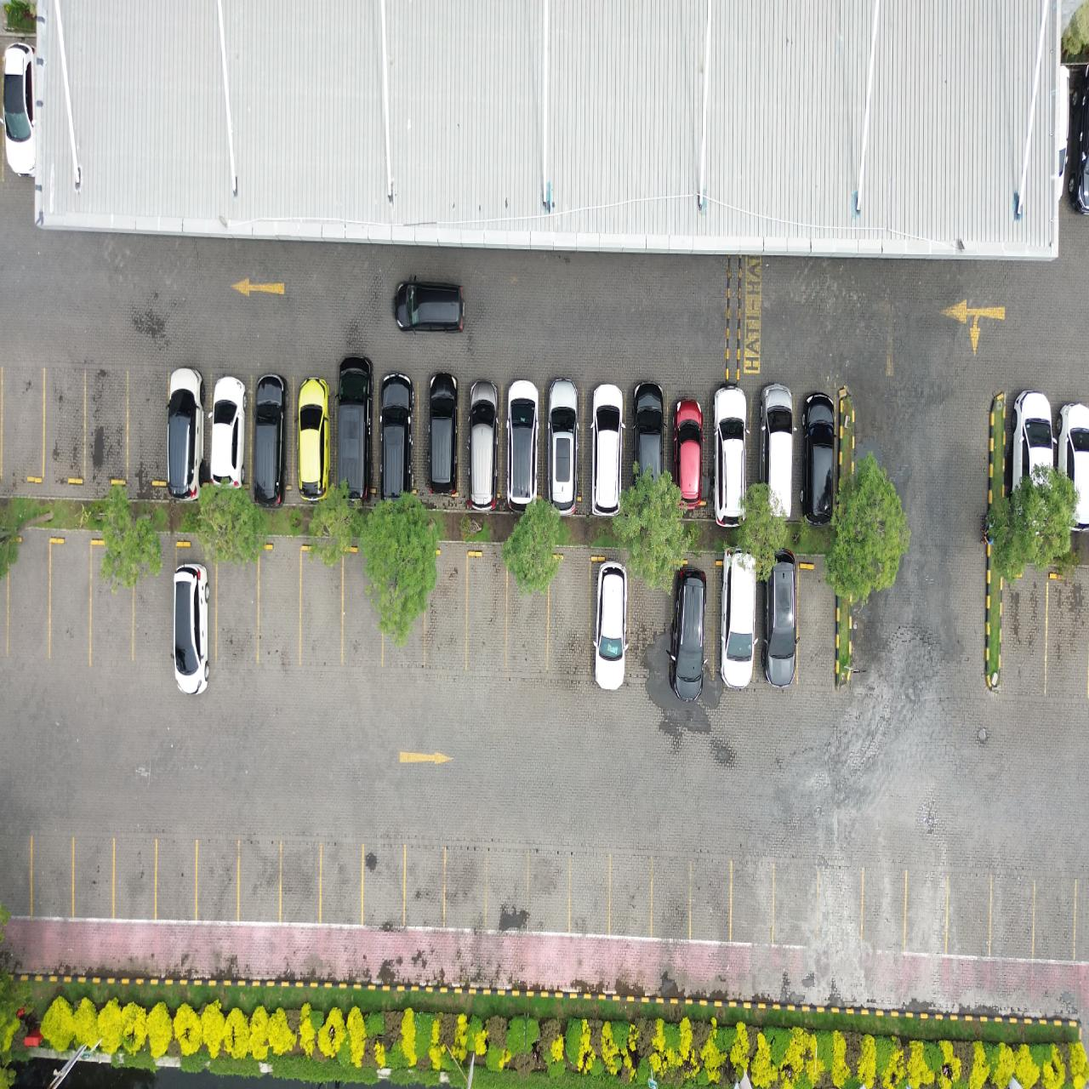cars: (170, 371, 208, 495), (211, 372, 249, 496), (252, 375, 290, 499), (294, 376, 332, 500), (336, 377, 374, 501), (377, 378, 415, 502), (419, 378, 457, 502), (460, 379, 498, 503), (543, 381, 581, 505), (666, 382, 704, 506), (794, 390, 832, 514), (717, 559, 755, 683), (758, 560, 796, 684), (672, 563, 710, 687), (593, 561, 631, 685), (175, 546, 213, 670), (502, 380, 540, 503), (584, 381, 622, 504), (753, 389, 791, 512), (626, 382, 663, 506), (708, 383, 745, 507)
empty: (93, 535, 134, 691), (9, 534, 49, 692), (135, 534, 174, 690), (52, 534, 90, 693), (384, 547, 425, 691), (127, 354, 167, 500), (87, 355, 127, 500), (549, 551, 590, 692), (218, 540, 257, 688), (427, 549, 467, 692), (5, 350, 44, 496), (46, 353, 85, 498), (260, 543, 299, 688), (508, 549, 547, 693), (468, 548, 507, 691), (343, 545, 381, 690), (302, 544, 340, 688), (631, 557, 671, 693), (799, 558, 834, 692)
